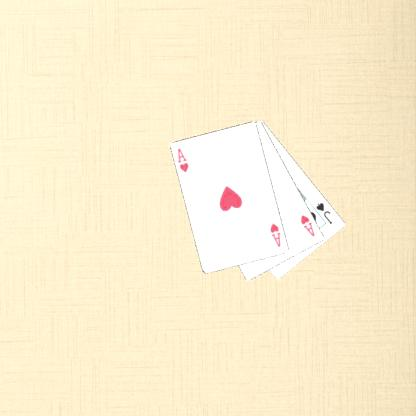AH: (298, 212, 316, 238), (175, 146, 190, 174), (268, 221, 282, 248)
JS: (313, 200, 334, 226)
